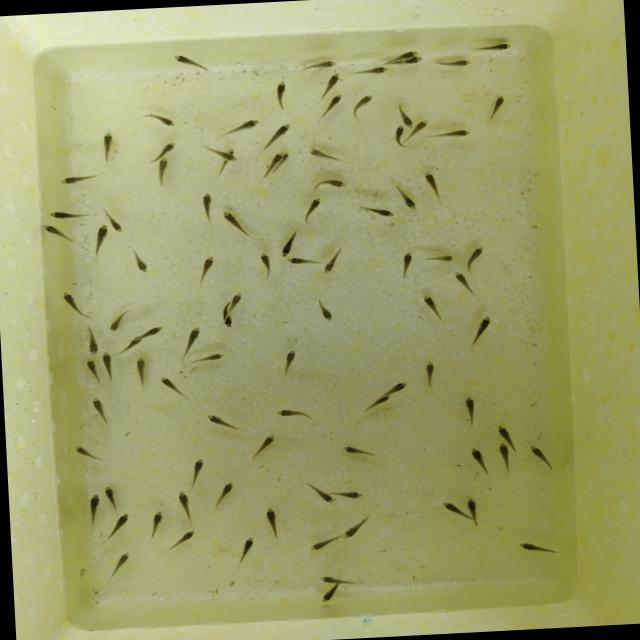fingerling: (168, 50, 215, 76), (218, 208, 254, 241), (172, 487, 200, 529), (468, 312, 496, 353), (352, 199, 397, 224), (243, 432, 280, 462), (38, 220, 79, 247), (68, 441, 114, 465), (86, 392, 114, 431), (230, 532, 264, 564), (220, 116, 264, 140), (516, 538, 560, 562), (526, 440, 556, 474), (86, 222, 112, 261), (306, 144, 348, 168), (270, 402, 318, 423), (307, 172, 357, 192), (158, 373, 189, 405), (464, 444, 492, 479), (297, 194, 327, 226), (58, 287, 88, 319), (104, 512, 134, 544), (58, 170, 108, 189), (202, 411, 241, 435), (458, 393, 482, 432), (125, 245, 154, 277), (264, 120, 297, 148), (141, 110, 179, 134), (417, 292, 448, 321), (210, 478, 238, 510), (270, 76, 294, 113), (192, 252, 218, 286), (472, 38, 516, 58), (105, 550, 134, 580), (392, 249, 420, 280), (482, 92, 509, 124), (260, 504, 284, 540), (335, 442, 378, 462), (96, 128, 118, 166), (277, 346, 302, 379), (167, 528, 200, 553), (427, 126, 478, 142), (420, 168, 444, 202), (105, 306, 134, 334), (144, 508, 169, 540), (340, 516, 372, 541), (396, 182, 420, 215), (306, 532, 342, 554), (350, 92, 378, 120), (43, 206, 92, 222), (197, 190, 219, 225), (186, 453, 208, 488), (464, 241, 488, 273), (418, 359, 442, 391), (320, 246, 345, 276), (432, 56, 476, 73), (84, 491, 104, 528), (304, 482, 336, 505), (131, 352, 151, 388), (276, 229, 300, 258), (298, 56, 340, 72), (255, 249, 276, 281), (314, 296, 338, 324), (186, 351, 230, 366), (361, 394, 394, 414), (80, 325, 101, 356), (154, 156, 173, 190), (350, 64, 390, 80), (80, 356, 102, 385), (420, 250, 457, 267), (318, 68, 344, 92), (284, 254, 323, 270), (181, 325, 204, 352), (104, 480, 122, 513), (496, 440, 512, 476), (114, 336, 142, 356), (324, 93, 344, 119), (318, 572, 355, 586), (101, 348, 116, 381), (450, 270, 473, 290), (335, 487, 365, 502), (154, 141, 182, 157), (440, 498, 464, 516), (142, 322, 166, 339), (318, 588, 340, 606), (393, 124, 408, 150), (493, 422, 512, 442), (228, 291, 246, 312), (388, 380, 412, 394), (464, 494, 480, 515), (108, 218, 126, 234), (218, 151, 240, 164), (220, 313, 234, 332), (396, 48, 420, 58), (270, 150, 286, 164), (417, 117, 431, 132), (402, 116, 416, 130), (412, 56, 426, 66)
